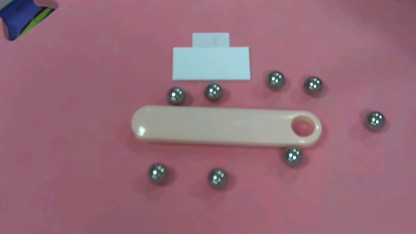ironball: (363, 105, 385, 130), (205, 164, 227, 189), (261, 67, 284, 89), (163, 83, 185, 105), (146, 160, 166, 184), (279, 144, 300, 165), (202, 79, 221, 100), (304, 74, 322, 95)
